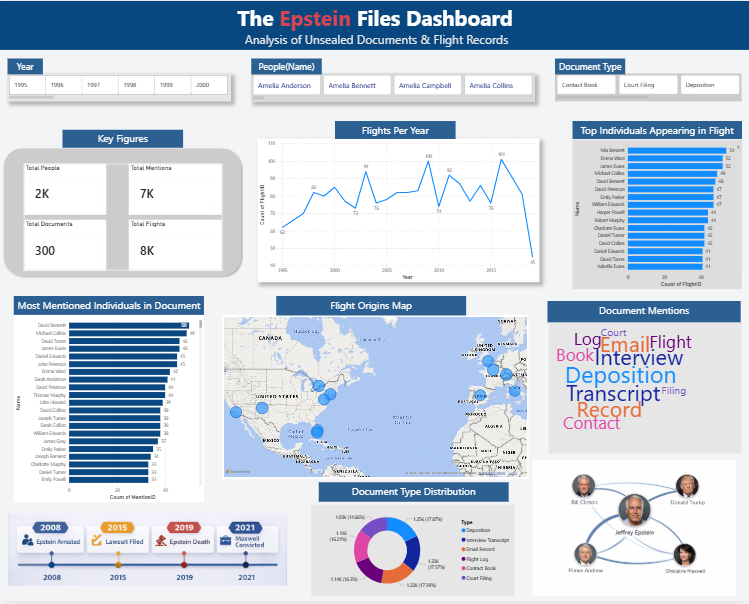

Layout of this report page (visuals, bound fields, positions):
{"tool":"powerbi","page":{"name":"Page 1","canvas":[2000,1600],"ordinal":0},"visuals":[{"type":"textbox","box":[0,0,2000,130],"z":0},{"type":"cardVisual","title":"Total People","fields":{"Data":["CountNonNull(People.PersonID)"]},"box":[63.3,433.3,220,136.7],"z":0,"group":"g1"},{"type":"advancedSlicerVisual","fields":{"Values":["Documents.Year"]},"box":[20,194,596,74],"z":1000},{"type":"cardVisual","title":"Total Flights","fields":{"Data":["CountNonNull(FlightPassengers.FlightID)"]},"box":[343.3,581.6,248.3,136.7],"z":1000,"group":"g1"},{"type":"textbox","box":[20,152,94,42],"z":2000},{"type":"cardVisual","title":"Total Documents","fields":{"Data":["CountNonNull(Documents.DocID)"]},"box":[63.3,581.6,220,136.7],"z":2000,"group":"g1"},{"type":"advancedSlicerVisual","fields":{"Values":["People.Name"]},"box":[670,192,756,76],"z":3000},{"type":"cardVisual","title":"Total Mentions","fields":{"Data":["CountNonNull(Mentions.MentionID)"]},"box":[343.3,433.3,248.3,136.7],"z":3000,"group":"g1"},{"type":"textbox","box":[670,152,188,42],"z":4000},{"type":"advancedSlicerVisual","fields":{"Values":["Documents.Type"]},"box":[1479.5,194.9,497.4,74.4],"z":5000},{"type":"textbox","box":[1480,152.5,187.5,42.5],"z":6000},{"type":"shape","box":[0,383.3,651.7,358.3],"z":7000},{"type":"group","id":"g1","title":"Group 1","box":[63.3,433.3,528.3,285],"z":8000},{"type":"lineChart","title":"Flights Per Year","fields":{"Category":["Flights.Date.Variation.Date Hierarchy.Year"],"Y":["CountNonNull(Flights.FlightID)"]},"box":[686.7,368.3,751.7,383.3],"z":9000},{"type":"textbox","box":[893.3,320,321.7,48.3],"z":10000},{"type":"textbox","box":[165,343.3,321.7,48.3],"z":11000},{"type":"clusteredBarChart","title":"Top Individuals Appearing in Flights","fields":{"Category":["People.Name"],"Y":["CountNonNull(FlightPassengers.FlightID)"]},"box":[1525,368.3,451.7,398.3],"z":12000},{"type":"textbox","box":[1525,318.3,451.7,48.3],"z":13000},{"type":"clusteredBarChart","title":"Most Mentioned Individuals in Documents","fields":{"Category":["People.Name"],"Y":["CountNonNull(Mentions.MentionID)"]},"box":[35,835,507.5,500],"z":14000},{"type":"textbox","box":[35,785,507.5,50],"z":15000},{"type":"map","title":"Flight Origins Map","fields":{"Category":["Flights.From"],"Size":["CountNonNull(Flights.FlightID)"]},"box":[592,836,816,438],"z":16000},{"type":"WordCloud1447959067750","title":"Document Mentions","fields":{"Category":["Documents.Type"],"Values":["CountNonNull(Mentions.MentionID)"]},"box":[1462,856,514,350],"z":17000},{"type":"textbox","box":[738,786,506,52],"z":18000},{"type":"textbox","box":[1461.5,800,515.4,56.4],"z":19000},{"type":"image","box":[20,1367.5,747.5,192.5],"z":20000},{"type":"image","box":[1408,1224,570,362],"z":21000},{"type":"donutChart","fields":{"Category":["Documents.Type"],"Y":["CountNonNull(Mentions.MentionID)"]},"box":[830,1342,542,244],"z":22000},{"type":"textbox","box":[850,1284,506,52],"z":23000}]}

Visuals, with their boxes in screenshot pixels (x1, y1, x2, y2), scaled from the page's 2000x1600 canvas onto the 749x604 screenshot:
textbox: crop(0, 0, 748, 49)
"Total People" cardVisual: crop(24, 164, 106, 215)
advancedSlicerVisual - Documents.Year: crop(7, 73, 231, 101)
"Total Flights" cardVisual: crop(129, 220, 222, 271)
textbox: crop(7, 57, 43, 73)
"Total Documents" cardVisual: crop(24, 220, 106, 271)
advancedSlicerVisual - People.Name: crop(251, 72, 534, 101)
"Total Mentions" cardVisual: crop(129, 164, 222, 215)
textbox: crop(251, 57, 321, 73)
advancedSlicerVisual - Documents.Type: crop(554, 74, 740, 102)
textbox: crop(554, 58, 624, 74)
shape: crop(0, 145, 244, 280)
"Group 1" group: crop(24, 164, 222, 271)
"Flights Per Year" lineChart: crop(257, 139, 539, 284)
textbox: crop(335, 121, 455, 139)
textbox: crop(62, 130, 182, 148)
"Top Individuals Appearing in Flights" clusteredBarChart: crop(571, 139, 740, 289)
textbox: crop(571, 120, 740, 138)
"Most Mentioned Individuals in Documents" clusteredBarChart: crop(13, 315, 203, 504)
textbox: crop(13, 296, 203, 315)
"Flight Origins Map" map: crop(222, 316, 527, 481)
"Document Mentions" WordCloud1447959067750: crop(548, 323, 740, 455)
textbox: crop(276, 297, 466, 316)
textbox: crop(547, 302, 740, 323)
image: crop(7, 516, 287, 589)
image: crop(527, 462, 741, 599)
donutChart - Documents.Type x CountNonNull(Mentions.MentionID): crop(311, 507, 514, 599)
textbox: crop(318, 485, 508, 504)
